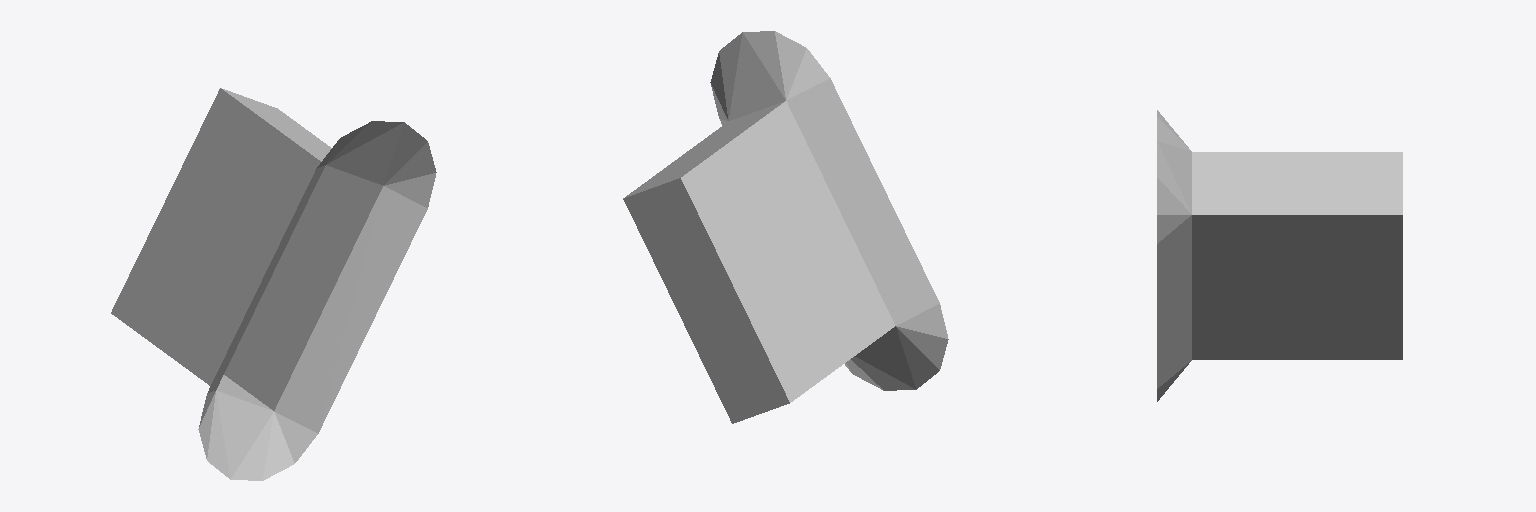
File: original-6.obj
The picture shows the model from 3 angles: view 1: azimuth 30°, elevation 25°; view 2: azimuth 150°, elevation 25°; view 3: azimuth 270°, elevation 25°; orthographic projection.
Parts seen in each view (by area): view 1: #ID63; view 2: #ID63; view 3: #ID63.
Part boxes in pixels (left/top/right/bottom): #ID63: left=111, top=88, right=436, bottom=480; #ID63: left=623, top=31, right=948, bottom=423; #ID63: left=1157, top=110, right=1402, bottom=401.
Bounding box in the file's own units: 0.1092 × 0.146 × 0.0977.